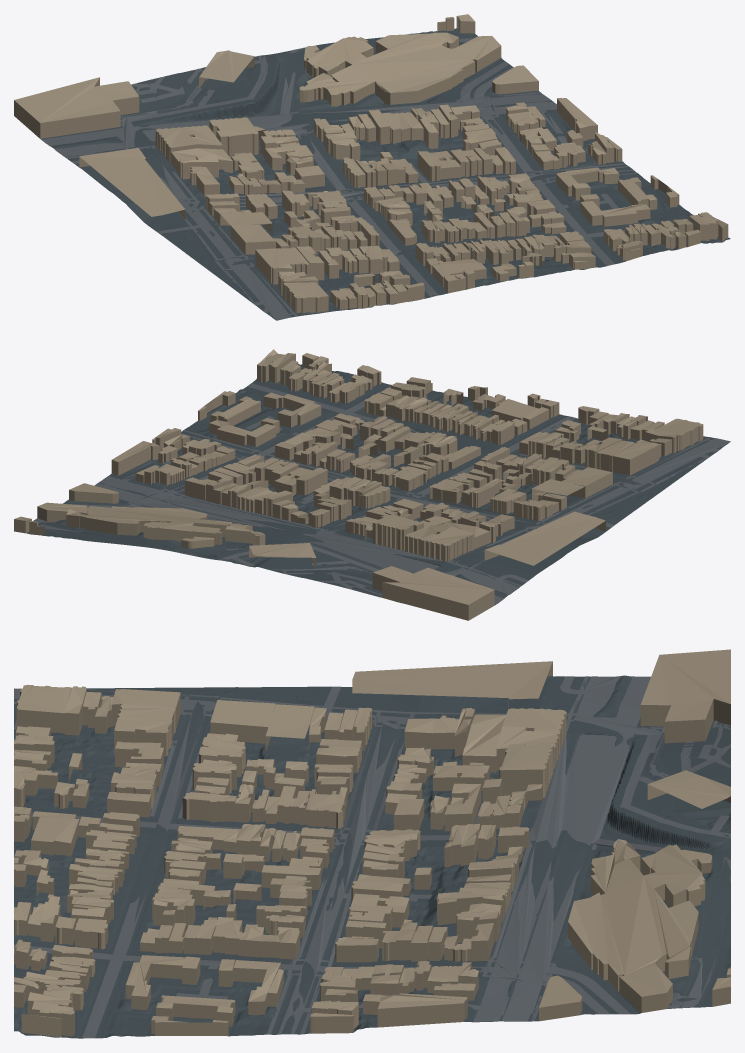
The model's file is epsg26910-1429-10890.lod0.glb.
3 renders of one model, top to bottom at view 1: azimuth 30°, elevation 25°; view 2: azimuth 150°, elevation 25°; view 3: azimuth 270°, elevation 25°, orthographic. The views are drawn at different scales.
Visible parts, largest first — view 1: epsg26910-1429-10890-lod0; view 2: epsg26910-1429-10890-lod0; view 3: epsg26910-1429-10890-lod0.
Part boxes in pixels (x1,y1,x2,y2): epsg26910-1429-10890-lod0: (14,14,730,320); epsg26910-1429-10890-lod0: (14,349,730,620); epsg26910-1429-10890-lod0: (14,649,730,1038).
Size of the model in its own units: 384 by 52.39 by 384.
